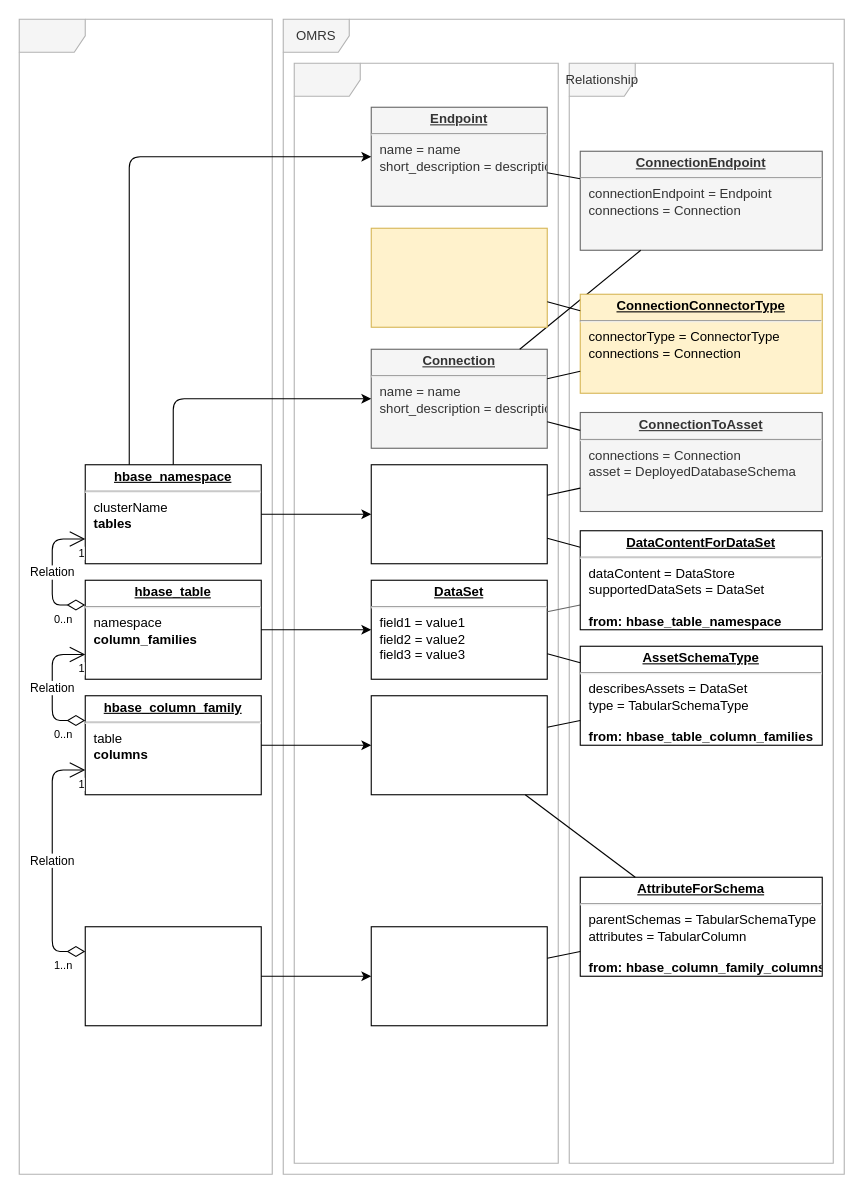
Some shapes in this 864 by 1194 pixel diagram are drawn without their labels. The shapes that lost their labels are listed below. From the top down, each one's box as (x1, y1, x2, y2) in pixels, then its label:
(370, 227, 547, 327): ConnectorType name = name short_description = description hard-coded to "HBase"?
(370, 464, 547, 564): DataStore field1 = value1 field2 = value2 field3 = value3
(18, 18, 272, 1174): Atlas
(293, 62, 558, 1163): Entity
(370, 695, 547, 795): TabularSchemaType field1 = value1 field2 = value2 field3 = value3
(84, 926, 261, 1026): hbase_column column_family
(370, 926, 547, 1026): TabularColumn field1 = value1 field2 = value2 field3 = value3
